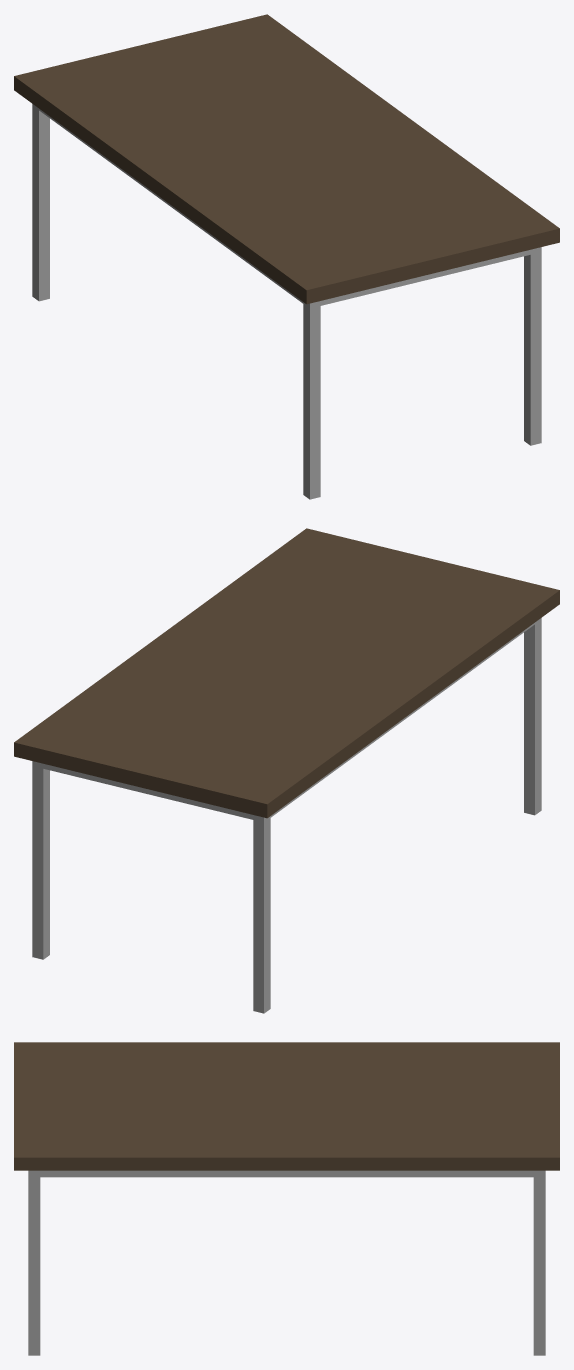
File: SM_basicTable_01.glb
3 views of the same model, one above another, from view 1: azimuth 30°, elevation 25°; view 2: azimuth 150°, elevation 25°; view 3: azimuth 270°, elevation 25° (orthographic). The views are drawn at different scales.
Visible parts, largest first — view 1: SM_basicTable_01; view 2: SM_basicTable_01; view 3: SM_basicTable_01.
Boxes of the visible parts, <box> form: SM_basicTable_01: <box>14,14,559,499</box>; SM_basicTable_01: <box>14,528,559,1013</box>; SM_basicTable_01: <box>14,1042,559,1355</box>.
Size of the model in its own units: 1 by 0.8205 by 2.
Materials: 1 (1 with a texture image).
